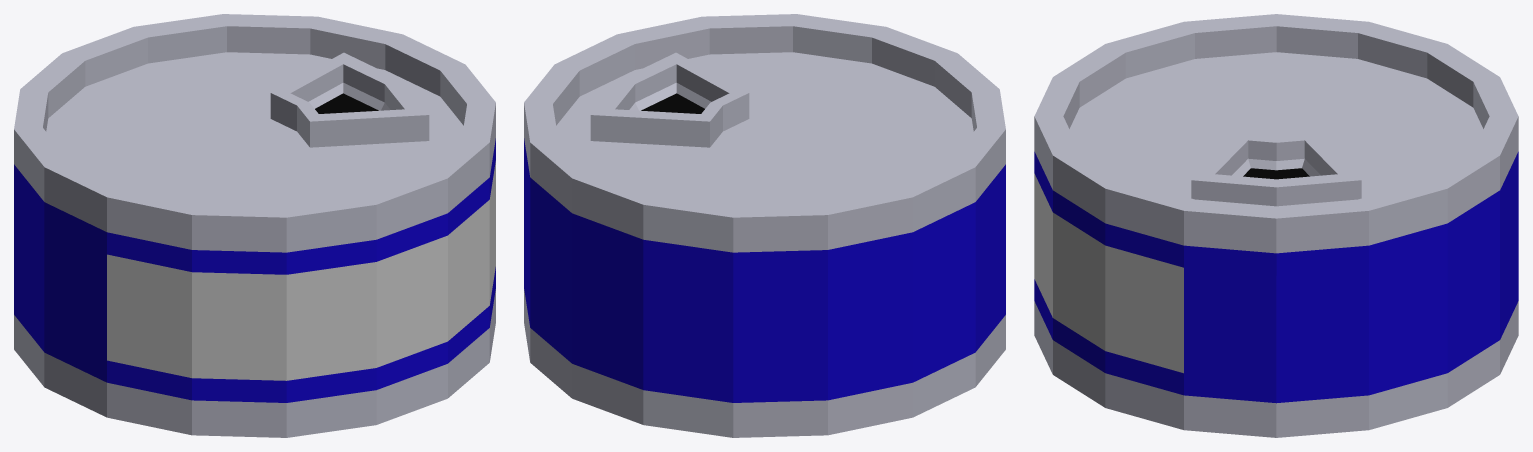
The model's file is catfood.fbx.
3 renders of one model, left to right at view 1: azimuth 30°, elevation 25°; view 2: azimuth 150°, elevation 25°; view 3: azimuth 270°, elevation 25°, orthographic.
Parts seen in each view (by area): view 1: Cylinder; view 2: Cylinder; view 3: Cylinder.
Boxes of the visible parts, x1=… form: Cylinder: x1=14, y1=14, x2=495, y2=437; Cylinder: x1=524, y1=14, x2=1005, y2=437; Cylinder: x1=1034, y1=14, x2=1518, y2=437.
Size of the model in its own units: 200 by 100 by 200.
